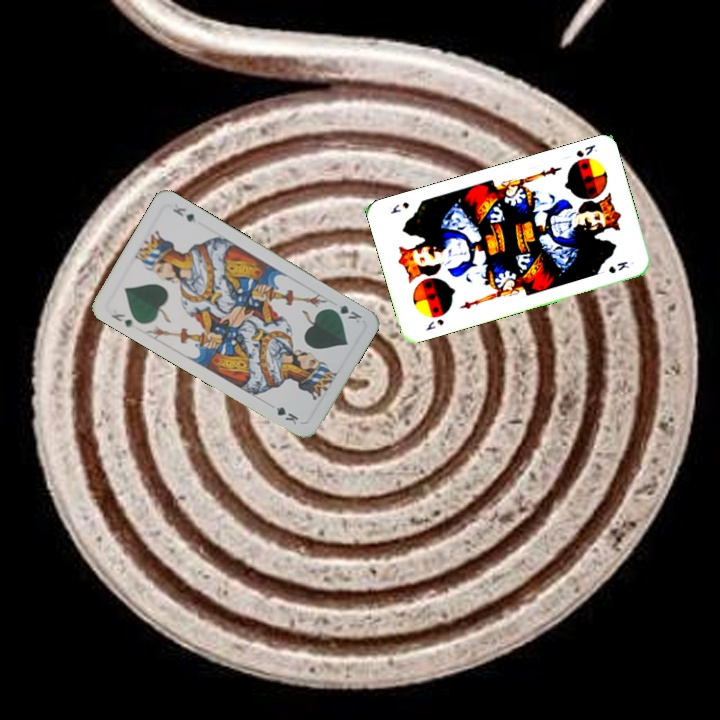GK: (326, 301, 365, 326), (107, 309, 135, 330)
SK: (572, 140, 600, 160), (422, 315, 447, 333)
